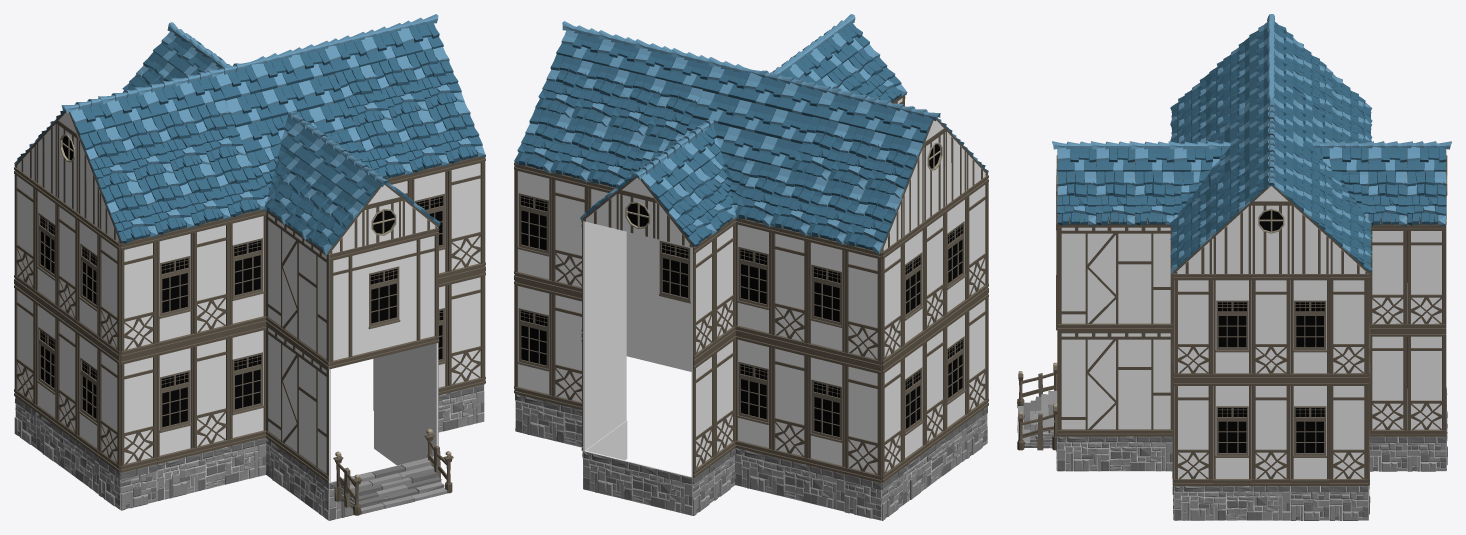
Rendered from House_18_parts.glb.
3 renders of one model, left to right at view 1: azimuth 30°, elevation 25°; view 2: azimuth 150°, elevation 25°; view 3: azimuth 270°, elevation 25°, orthographic. The views are drawn at different scales.
Parts seen in each view (by area): view 1: WINDOW_03_2, WALL_05_2, WALL_05_3, WALL_05_5, STAIRS_03_3, WALL_04_5, WALL_04_4, WALL_04_6, WALL_04_3, WINDOW_04_5, WALL_04_9, WINDOW_04_4 (+72 smaller); view 2: WALL_04_17, WALL_04_18, FOUNDATION_02_33, WALL_04_19, WINDOW_04_15, WINDOW_04_19, WALL_04_20, WINDOW_04_16, WINDOW_04_20, FOUNDATION_02_34, WINDOW_04_14, WINDOW_04_13 (+79 smaller); view 3: WALL_05_5, WALL_05_4, WINDOW_04_22, WALL_04_25, WALL_04_36, WALL_04_34, WINDOW_04_23, WALL_04_26, FOUNDATION_02_30, WINDOW_04_21, WALL_04_24, WALL_04_23 (+59 smaller).
Part boxes in pixels (x1=…): WINDOW_03_2: x1=329, y1=228, x2=439, y2=369; WALL_05_2: x1=266, y1=324, x2=330, y2=482; WALL_05_3: x1=266, y1=210, x2=329, y2=368; WALL_05_5: x1=373, y1=343, x2=438, y2=454; STAIRS_03_3: x1=333, y1=428, x2=453, y2=515; WALL_04_5: x1=120, y1=236, x2=157, y2=358; WALL_04_4: x1=120, y1=350, x2=157, y2=472; WALL_04_6: x1=193, y1=219, x2=230, y2=340; WALL_04_3: x1=193, y1=332, x2=230, y2=454; WINDOW_04_5: x1=157, y1=227, x2=194, y2=349; WALL_04_9: x1=448, y1=157, x2=485, y2=278; WINDOW_04_4: x1=157, y1=341, x2=194, y2=463; WALL_04_17: x1=771, y1=226, x2=808, y2=350; WALL_04_18: x1=771, y1=341, x2=808, y2=464; FOUNDATION_02_33: x1=583, y1=451, x2=692, y2=515; WALL_04_19: x1=844, y1=243, x2=881, y2=367; WINDOW_04_15: x1=807, y1=234, x2=844, y2=358; WINDOW_04_19: x1=514, y1=163, x2=551, y2=287; WALL_04_20: x1=844, y1=359, x2=881, y2=482; WINDOW_04_16: x1=807, y1=350, x2=844, y2=473; WINDOW_04_20: x1=514, y1=279, x2=551, y2=402; FOUNDATION_02_34: x1=735, y1=448, x2=844, y2=511; WINDOW_04_14: x1=735, y1=218, x2=771, y2=341; WINDOW_04_13: x1=735, y1=333, x2=771, y2=456; WALL_05_5: x1=1057, y1=330, x2=1172, y2=436; WALL_05_4: x1=1057, y1=224, x2=1172, y2=330; WINDOW_04_22: x1=1290, y1=274, x2=1329, y2=380; WALL_04_25: x1=1329, y1=274, x2=1368, y2=380; WALL_04_36: x1=1407, y1=224, x2=1446, y2=330; WALL_04_34: x1=1407, y1=331, x2=1446, y2=436; WINDOW_04_23: x1=1290, y1=380, x2=1329, y2=485; WALL_04_26: x1=1329, y1=380, x2=1368, y2=485; FOUNDATION_02_30: x1=1057, y1=436, x2=1172, y2=471; WINDOW_04_21: x1=1213, y1=274, x2=1251, y2=380; WALL_04_24: x1=1252, y1=274, x2=1290, y2=380; WALL_04_23: x1=1174, y1=274, x2=1212, y2=380.
Bounding box in the file's own units: 10.29 × 9.65 × 11.18.
1 material, 1 textured.
